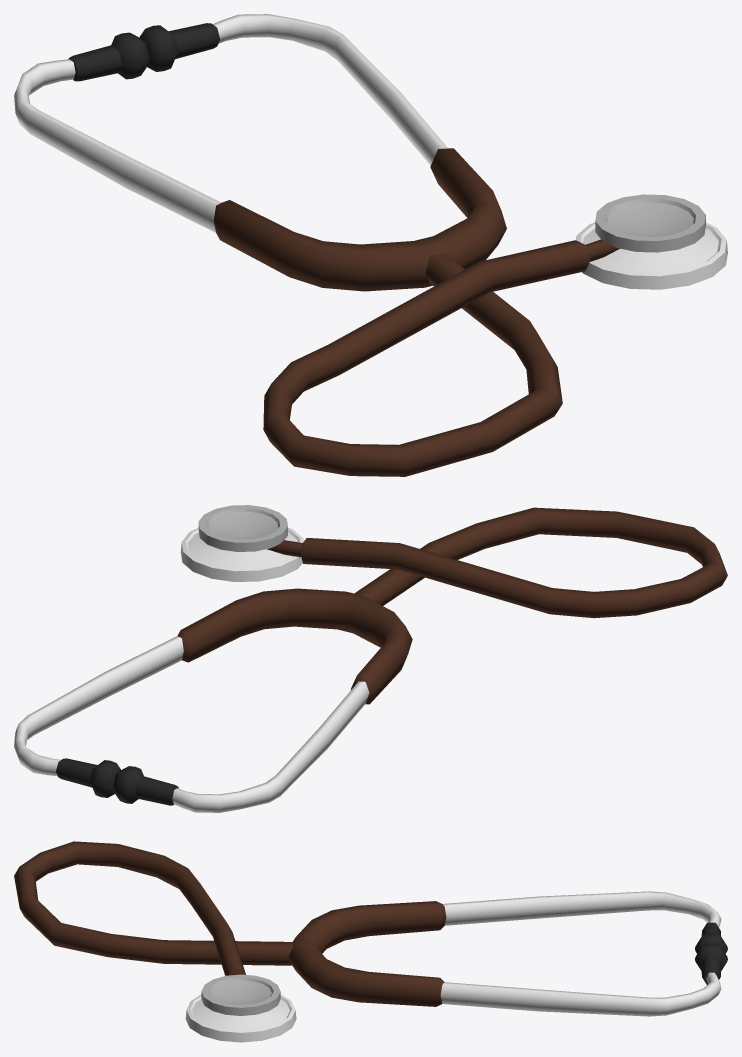
File: Stethoscope.fbx
3 views of the same model, one above another, from view 1: azimuth 30°, elevation 25°; view 2: azimuth 150°, elevation 25°; view 3: azimuth 270°, elevation 25° (orthographic). The views are drawn at different scales.
Parts seen in each view (by area): view 1: Stethoscope:RoadKillOut; view 2: Stethoscope:RoadKillOut; view 3: Stethoscope:RoadKillOut.
Boxes of the visible parts, bbox=[...] form: Stethoscope:RoadKillOut: bbox=[14, 14, 727, 476]; Stethoscope:RoadKillOut: bbox=[14, 505, 727, 812]; Stethoscope:RoadKillOut: bbox=[14, 841, 727, 1042].
Bounding box in the file's own units: 114 × 11.97 × 182.
